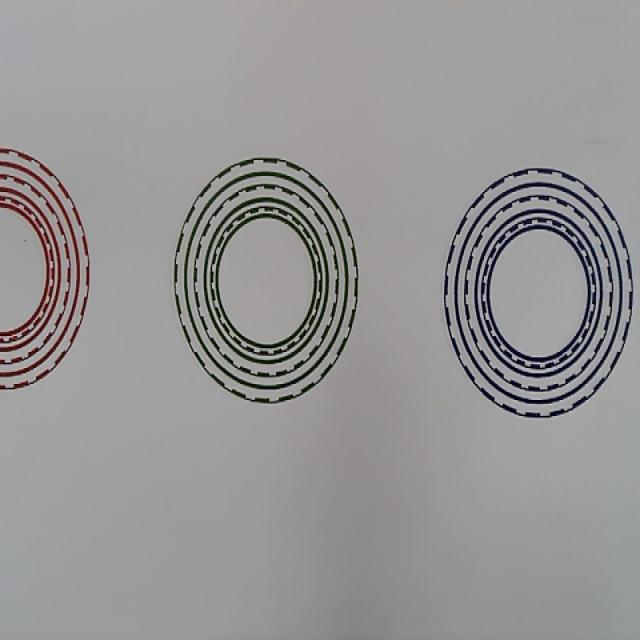b: (443, 167, 632, 418)
g: (174, 154, 358, 403)
